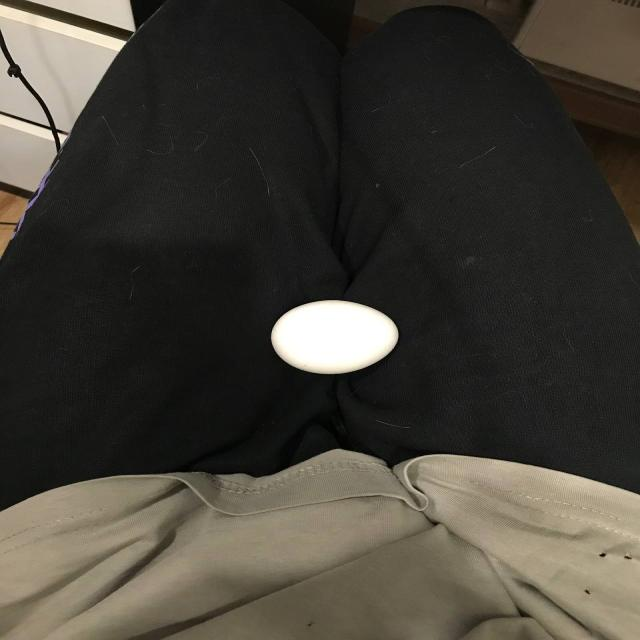egg: (269, 298, 402, 377)
